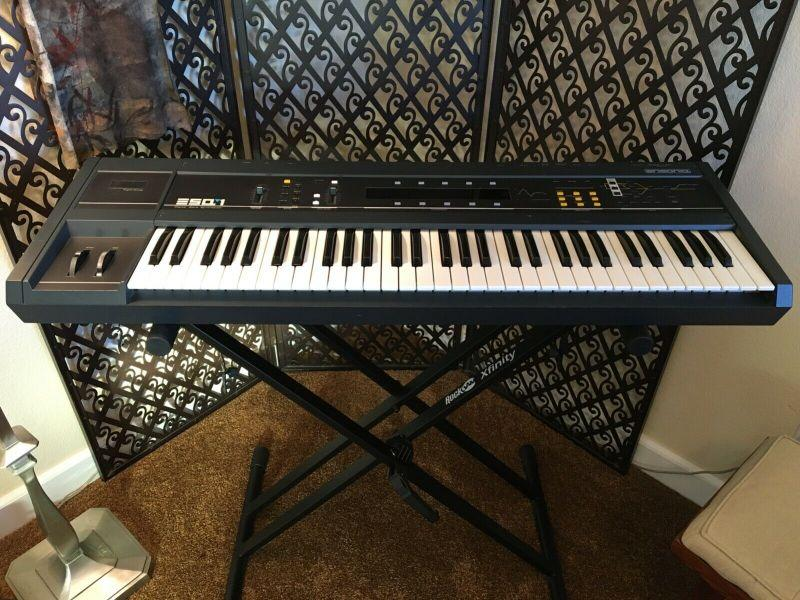synthesizer: (12, 139, 791, 340)
